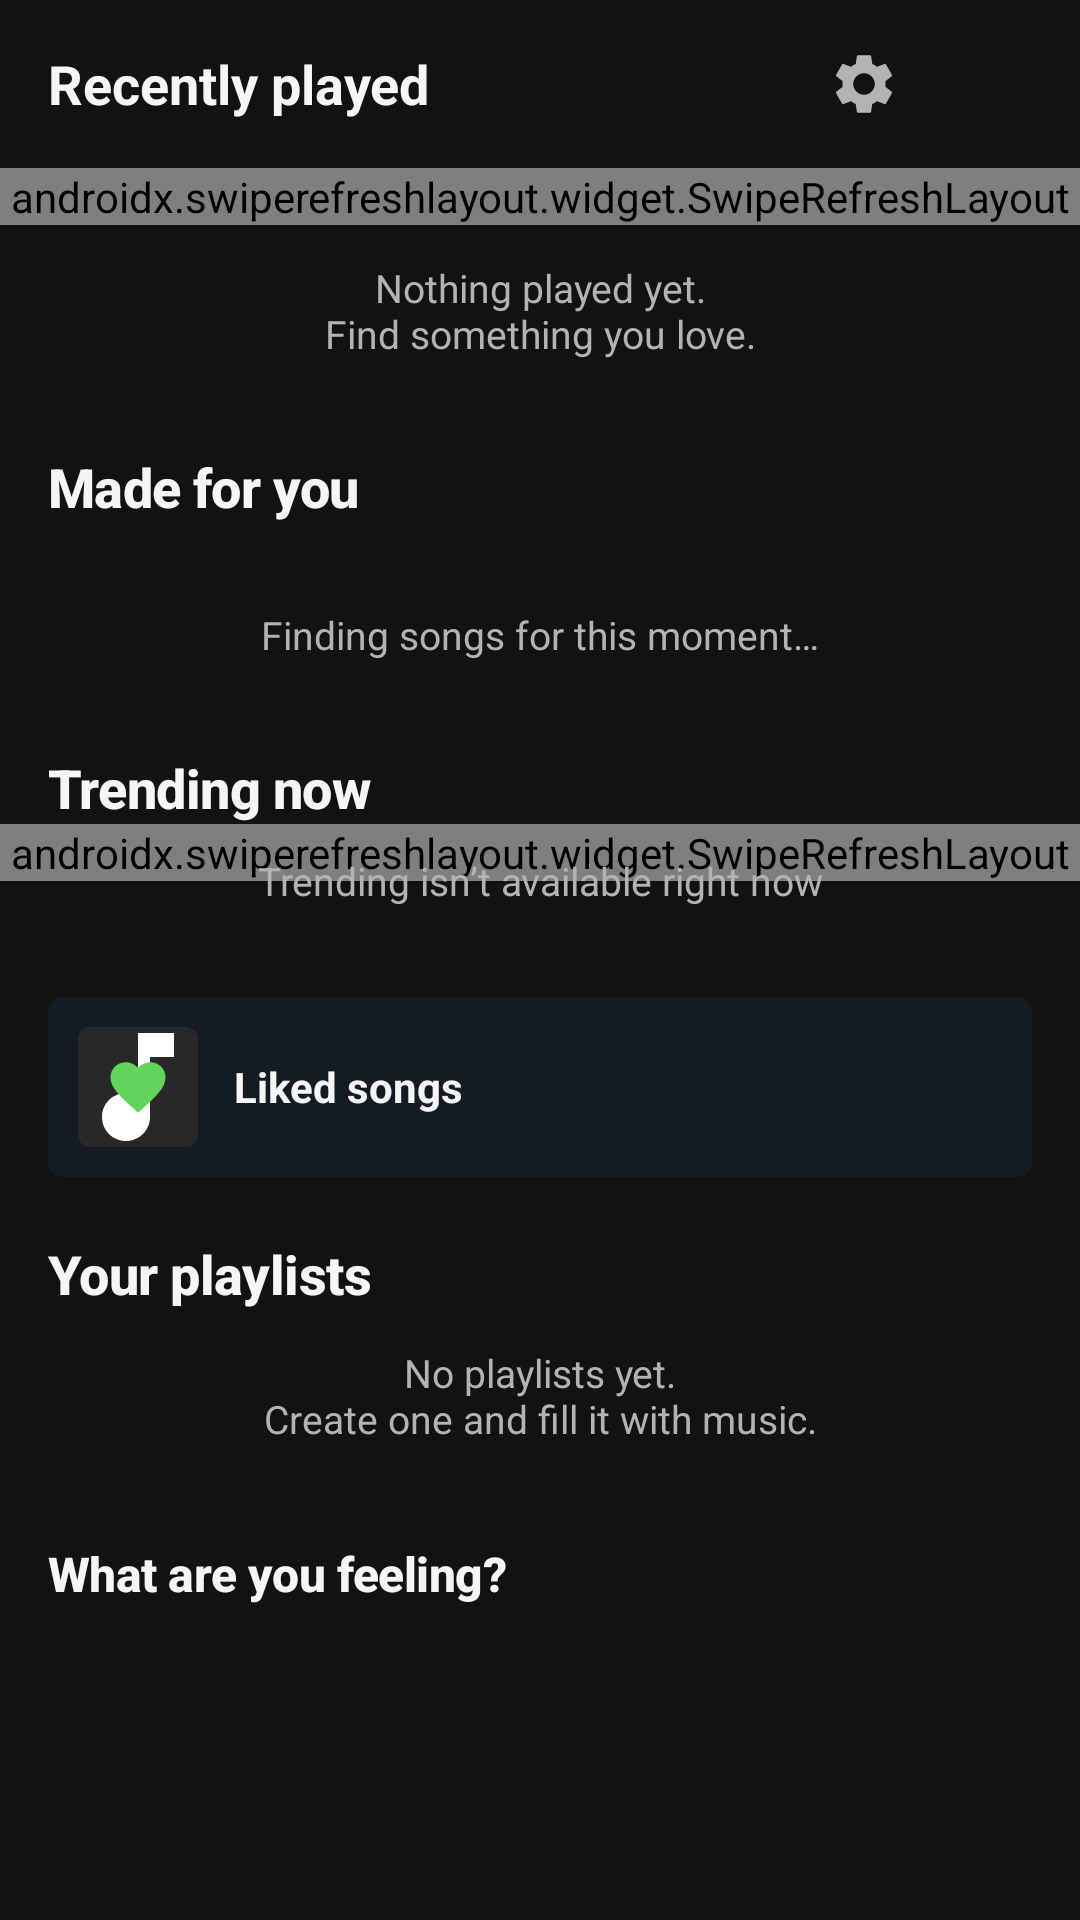

Icon click points for this 1080 × 1920 phone screenshot, format (x=x, y=y):
Settings: (x=864, y=84)
